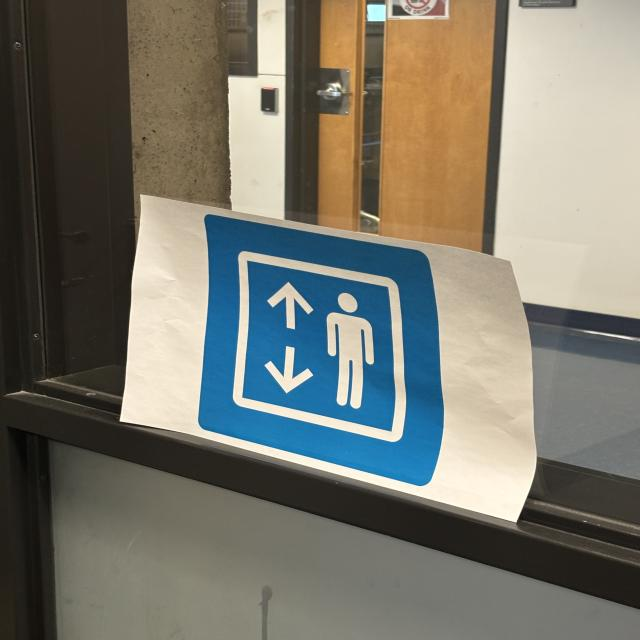elevator: (197, 213, 447, 486)
